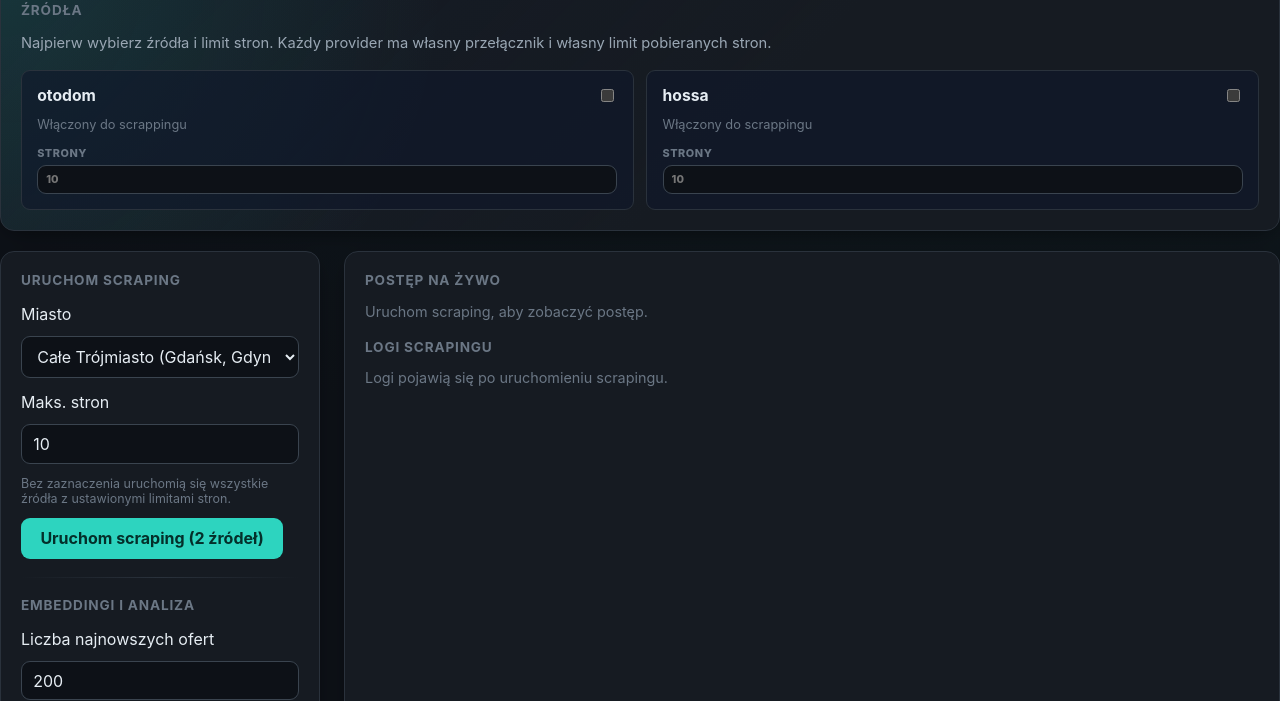
ScrapePage › runs enrichment from the visible button
Replace the text in the field labelled "Liczba najnowszych ofert" with "25": {"x": 160, "y": 680} [21,661,299,700]
(page scrolled)
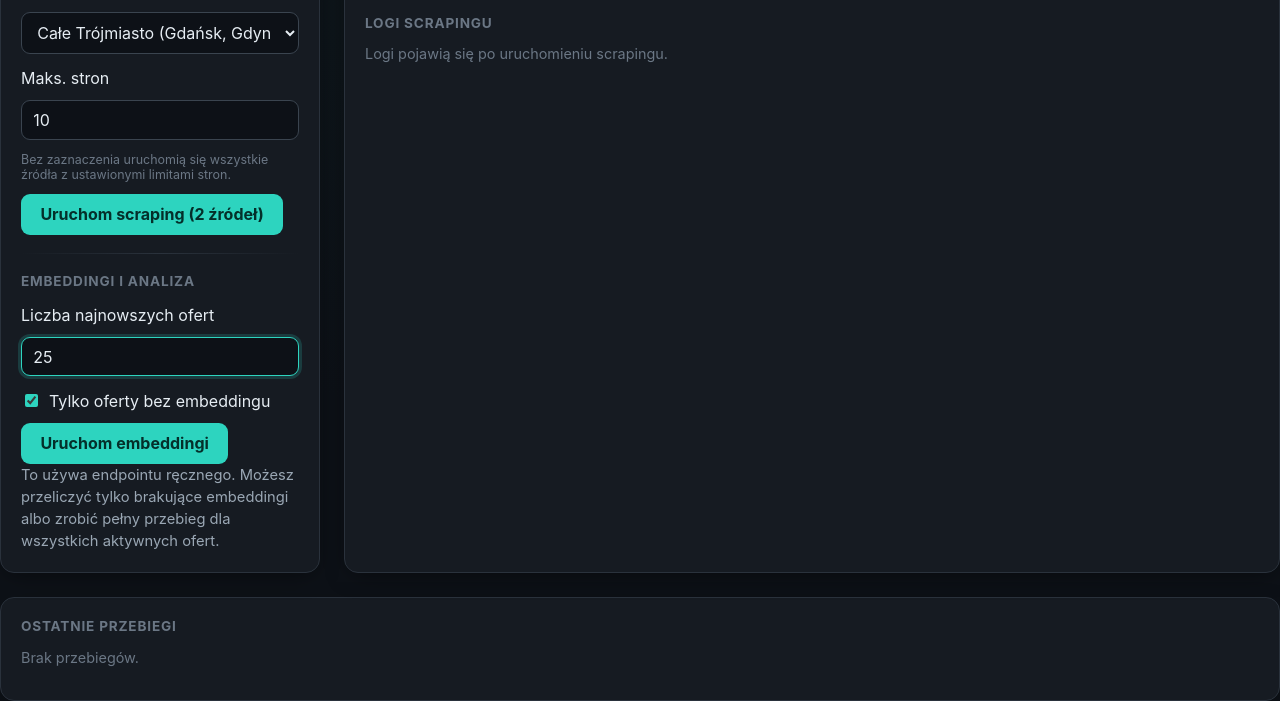
Click the button "Uruchom embeddingi": {"x": 125, "y": 443} [21,423,228,464]
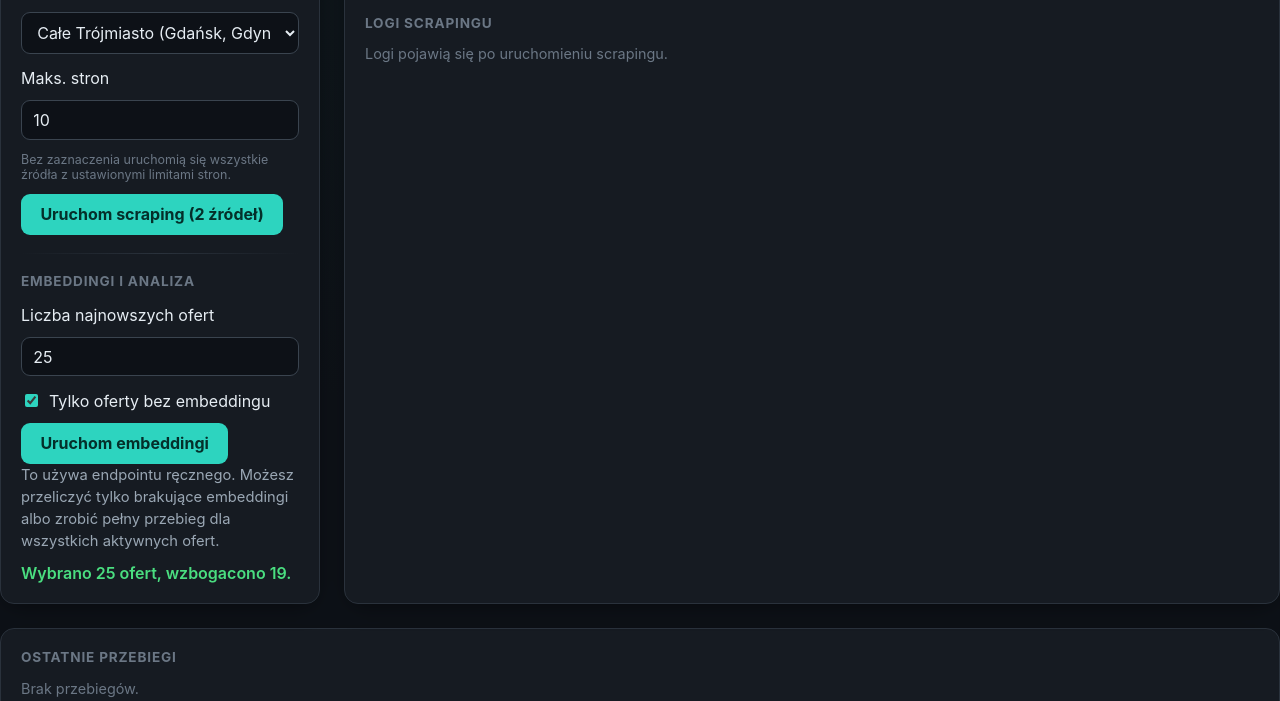
Check: the text "Wybrano 25 ofert, wzbogacono 19." is shown, box [21,563,299,583]
